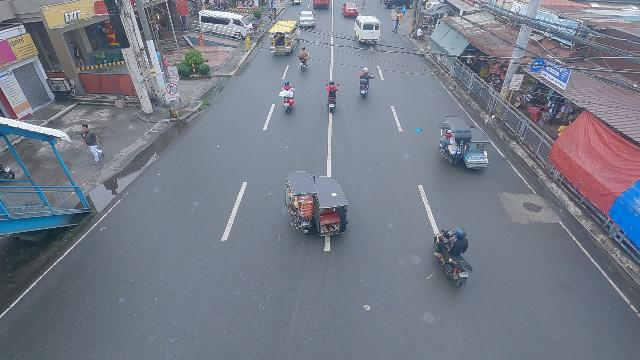car: (298, 10, 315, 29), (341, 2, 359, 18)
jeepney: (268, 19, 300, 59)
motorcycle: (431, 227, 476, 288), (278, 81, 295, 112), (359, 68, 375, 98), (325, 83, 339, 113), (297, 45, 310, 73)
van: (196, 10, 249, 41), (353, 16, 381, 46)
